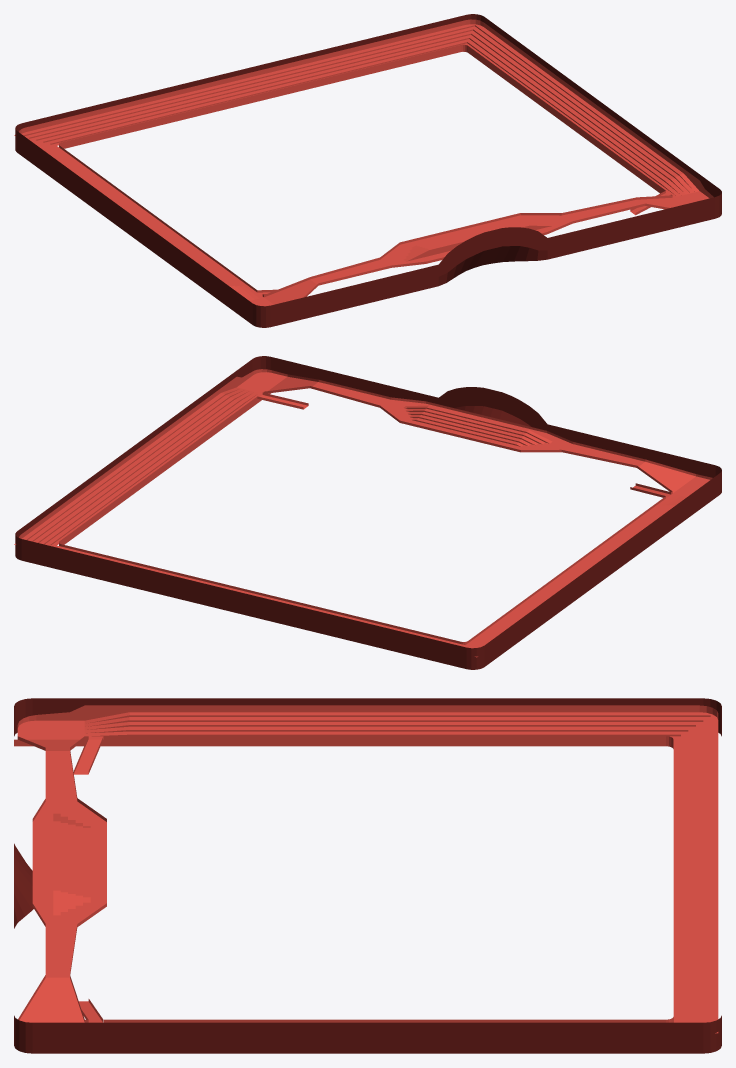
File: Tribunes.glb
The picture shows the model from 3 angles, top to bottom: view 1: azimuth 30°, elevation 25°; view 2: azimuth 150°, elevation 25°; view 3: azimuth 270°, elevation 25°; orthographic projection. The views are drawn at different scales.
Visible parts, largest first — view 1: Plane.105; view 2: Plane.105; view 3: Plane.105.
Boxes of the visible parts, x1,y1,x2,y2 form: Plane.105: (14, 14, 721, 327); Plane.105: (14, 356, 721, 669); Plane.105: (14, 698, 721, 1053).
Size of what is drawn, in the model's own units: 206 by 17.97 by 190.
